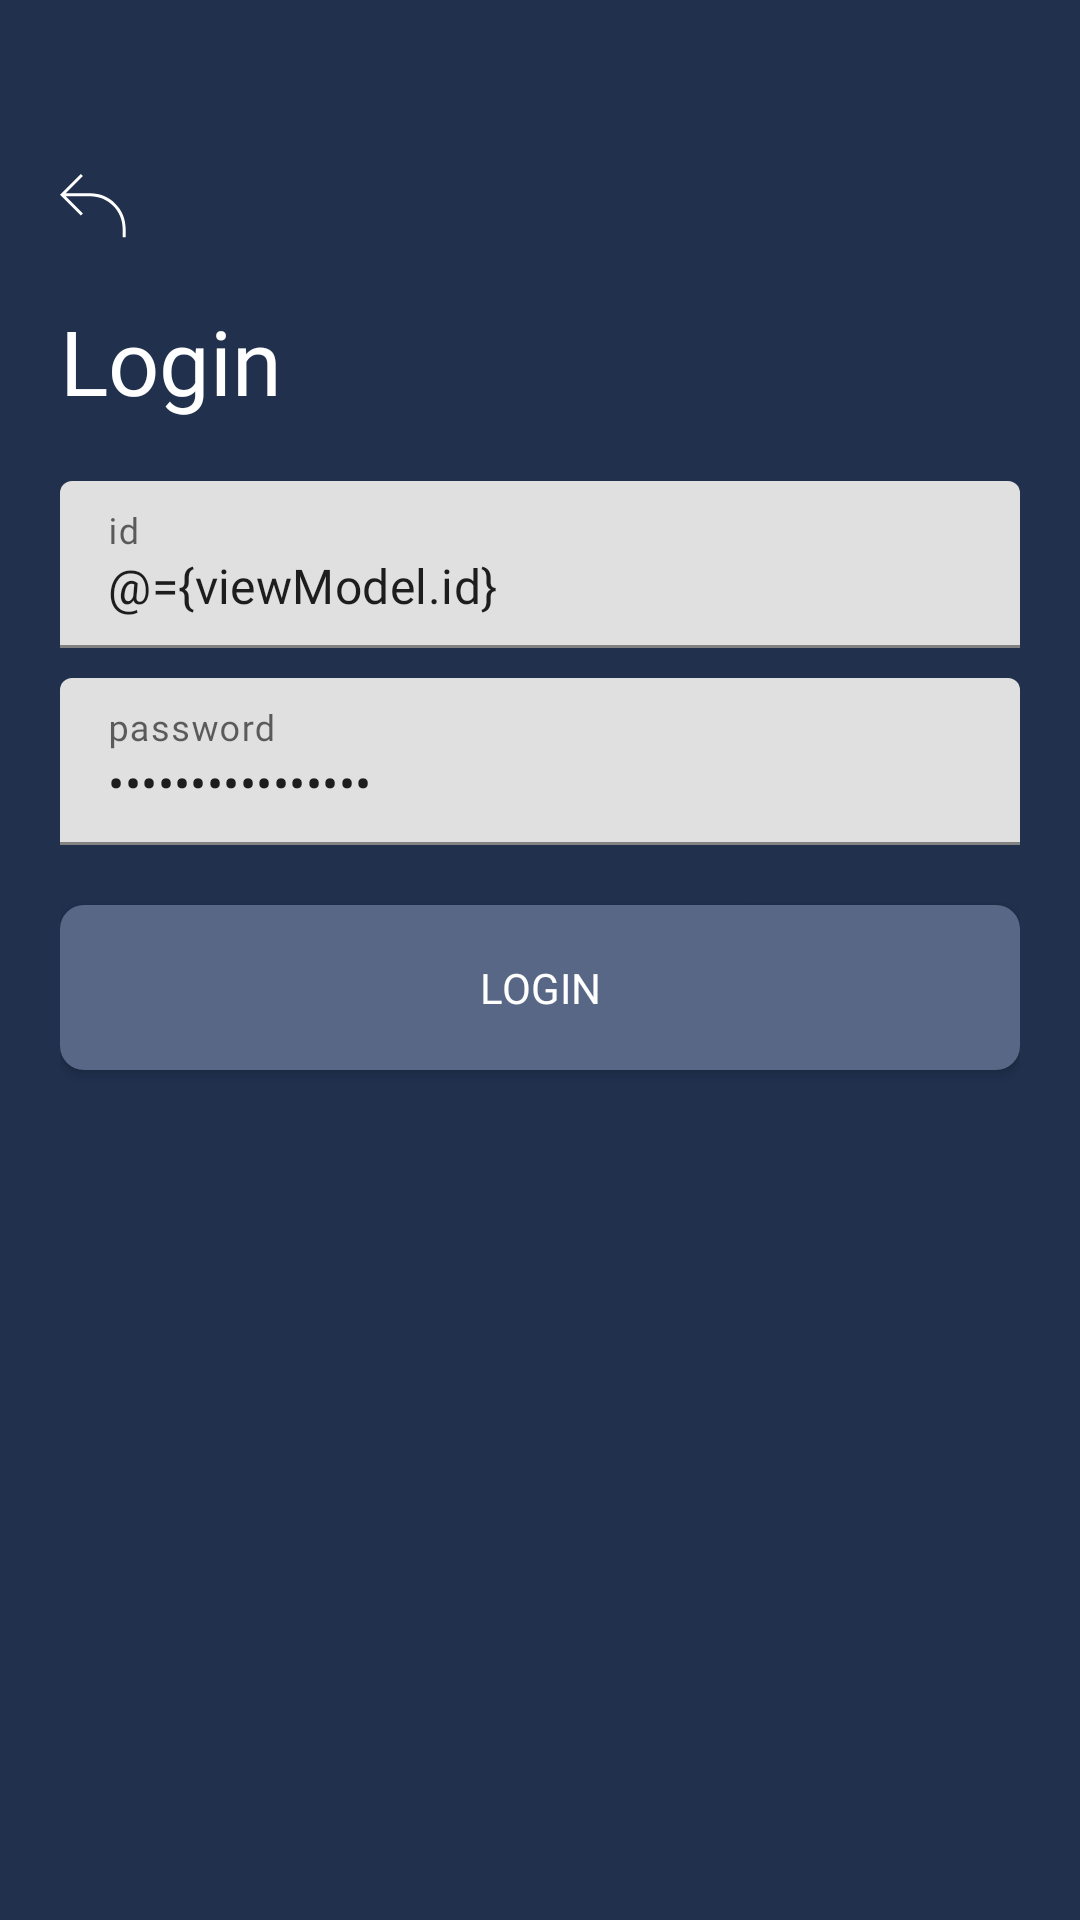

Named icons in this screenshot (1080x1920) and their bounding boxes, [x1=x1, y1=y1, x2=x2, y2=y2]:
back: [x1=60, y1=174, x2=126, y2=238]
